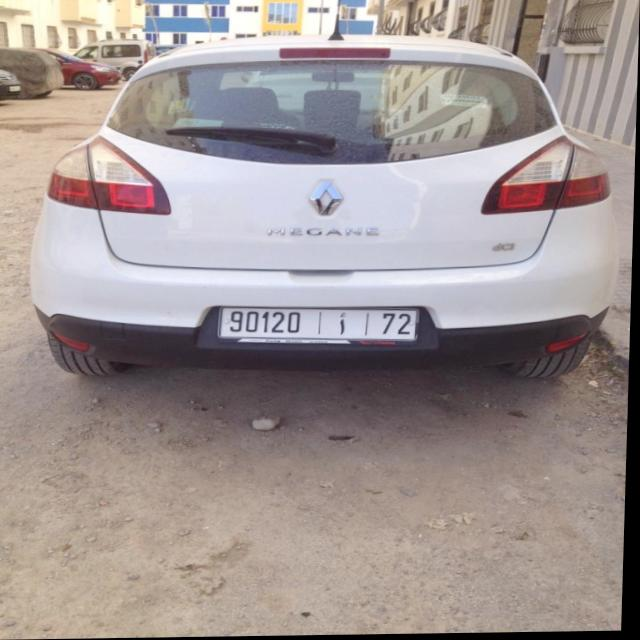License-Plate: (220, 309, 419, 344)
